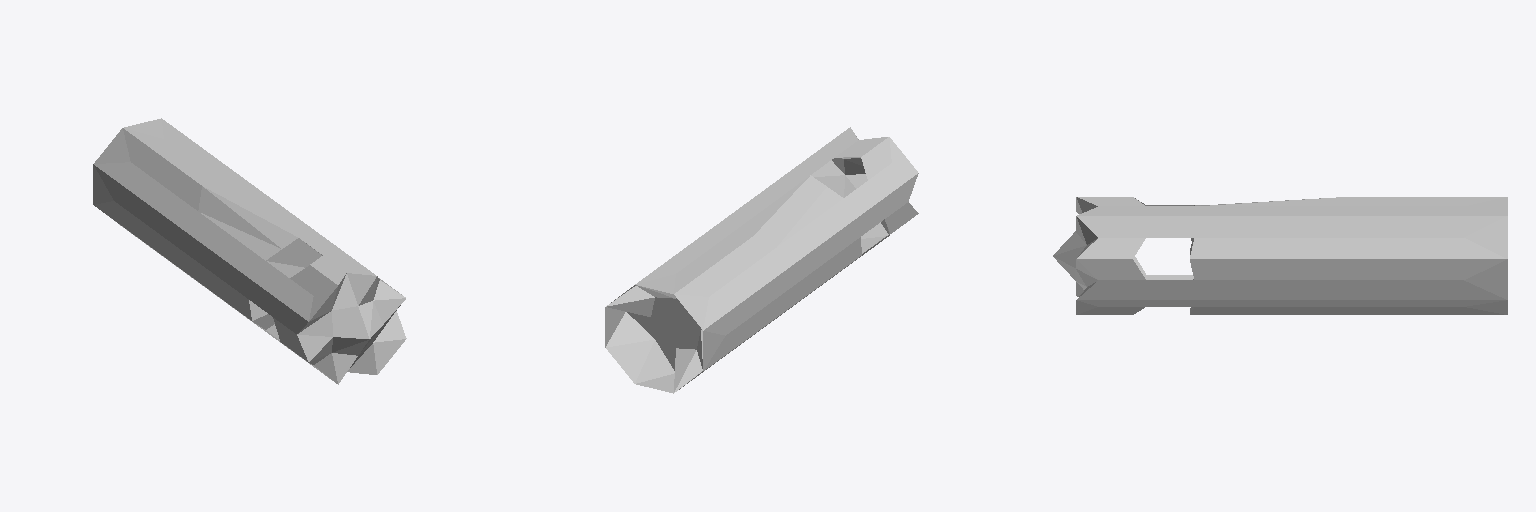
The model's file is archerytower.obj.
The picture shows the model from 3 angles: view 1: azimuth 30°, elevation 25°; view 2: azimuth 150°, elevation 25°; view 3: azimuth 270°, elevation 25°; orthographic projection.
Parts seen in each view (by area): view 1: Cube; view 2: Cube; view 3: Cube.
Part boxes in pixels (x1,y1,x2,y2): Cube: (93, 118, 406, 384); Cube: (605, 127, 918, 393); Cube: (1053, 197, 1507, 314).
Bounding box in the file's own units: 0.4017 × 0.3827 × 1.59.